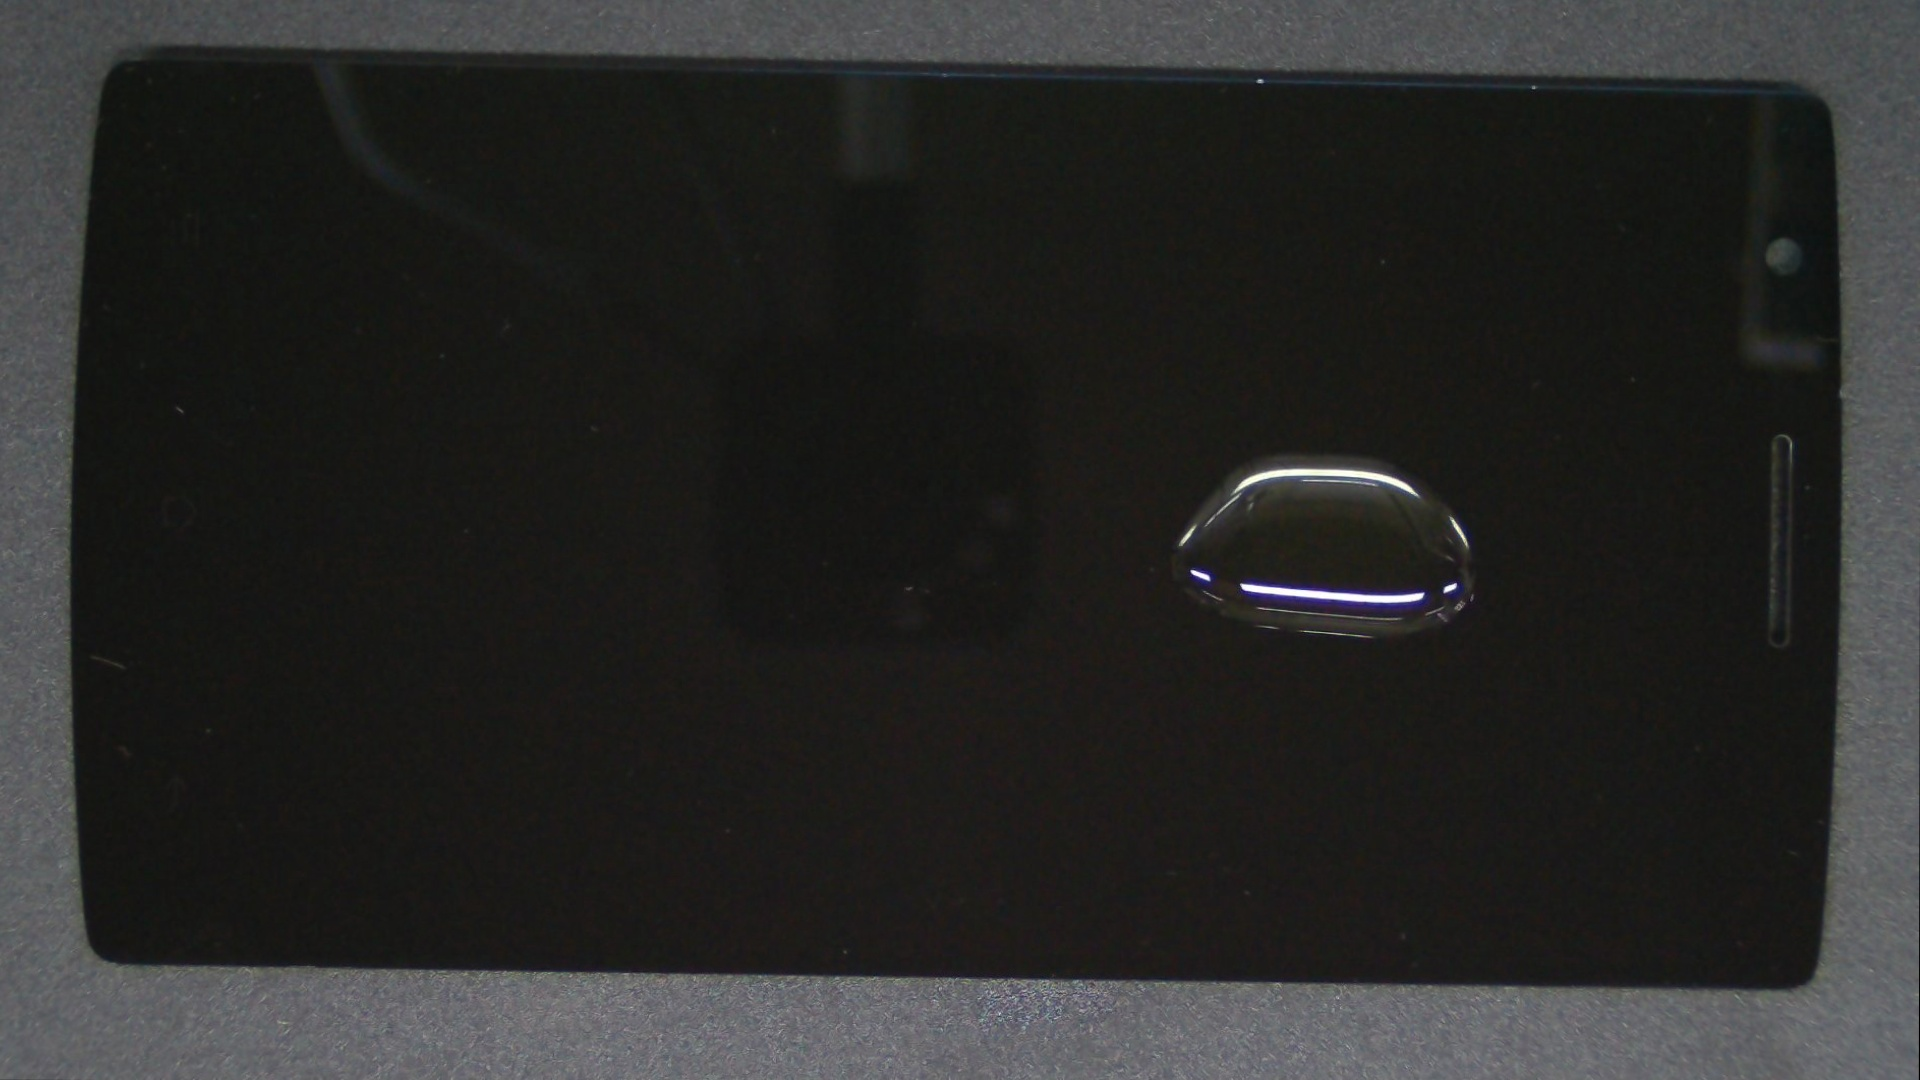oil: (615, 200, 1911, 707)
